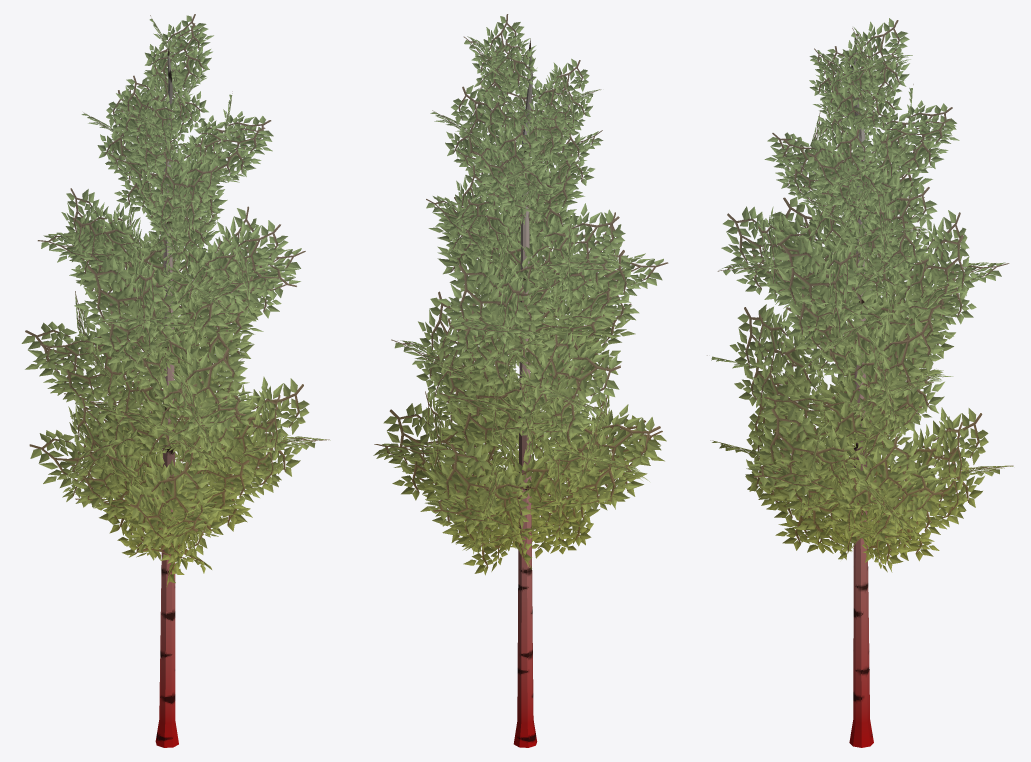
3 views of the same model, side by side, from view 1: azimuth 30°, elevation 25°; view 2: azimuth 150°, elevation 25°; view 3: azimuth 270°, elevation 25° (orthographic).
Visible parts, largest first — view 1: SM_Tree_Birch_03; view 2: SM_Tree_Birch_03; view 3: SM_Tree_Birch_03.
Boxes of the visible parts, <box> form: SM_Tree_Birch_03: <box>21,14,330,747</box>; SM_Tree_Birch_03: <box>373,14,668,747</box>; SM_Tree_Birch_03: <box>707,18,1013,747</box>.
Bounding box in the file's own units: 2.14 × 5.4 × 2.11.
2 materials, 2 textured.
